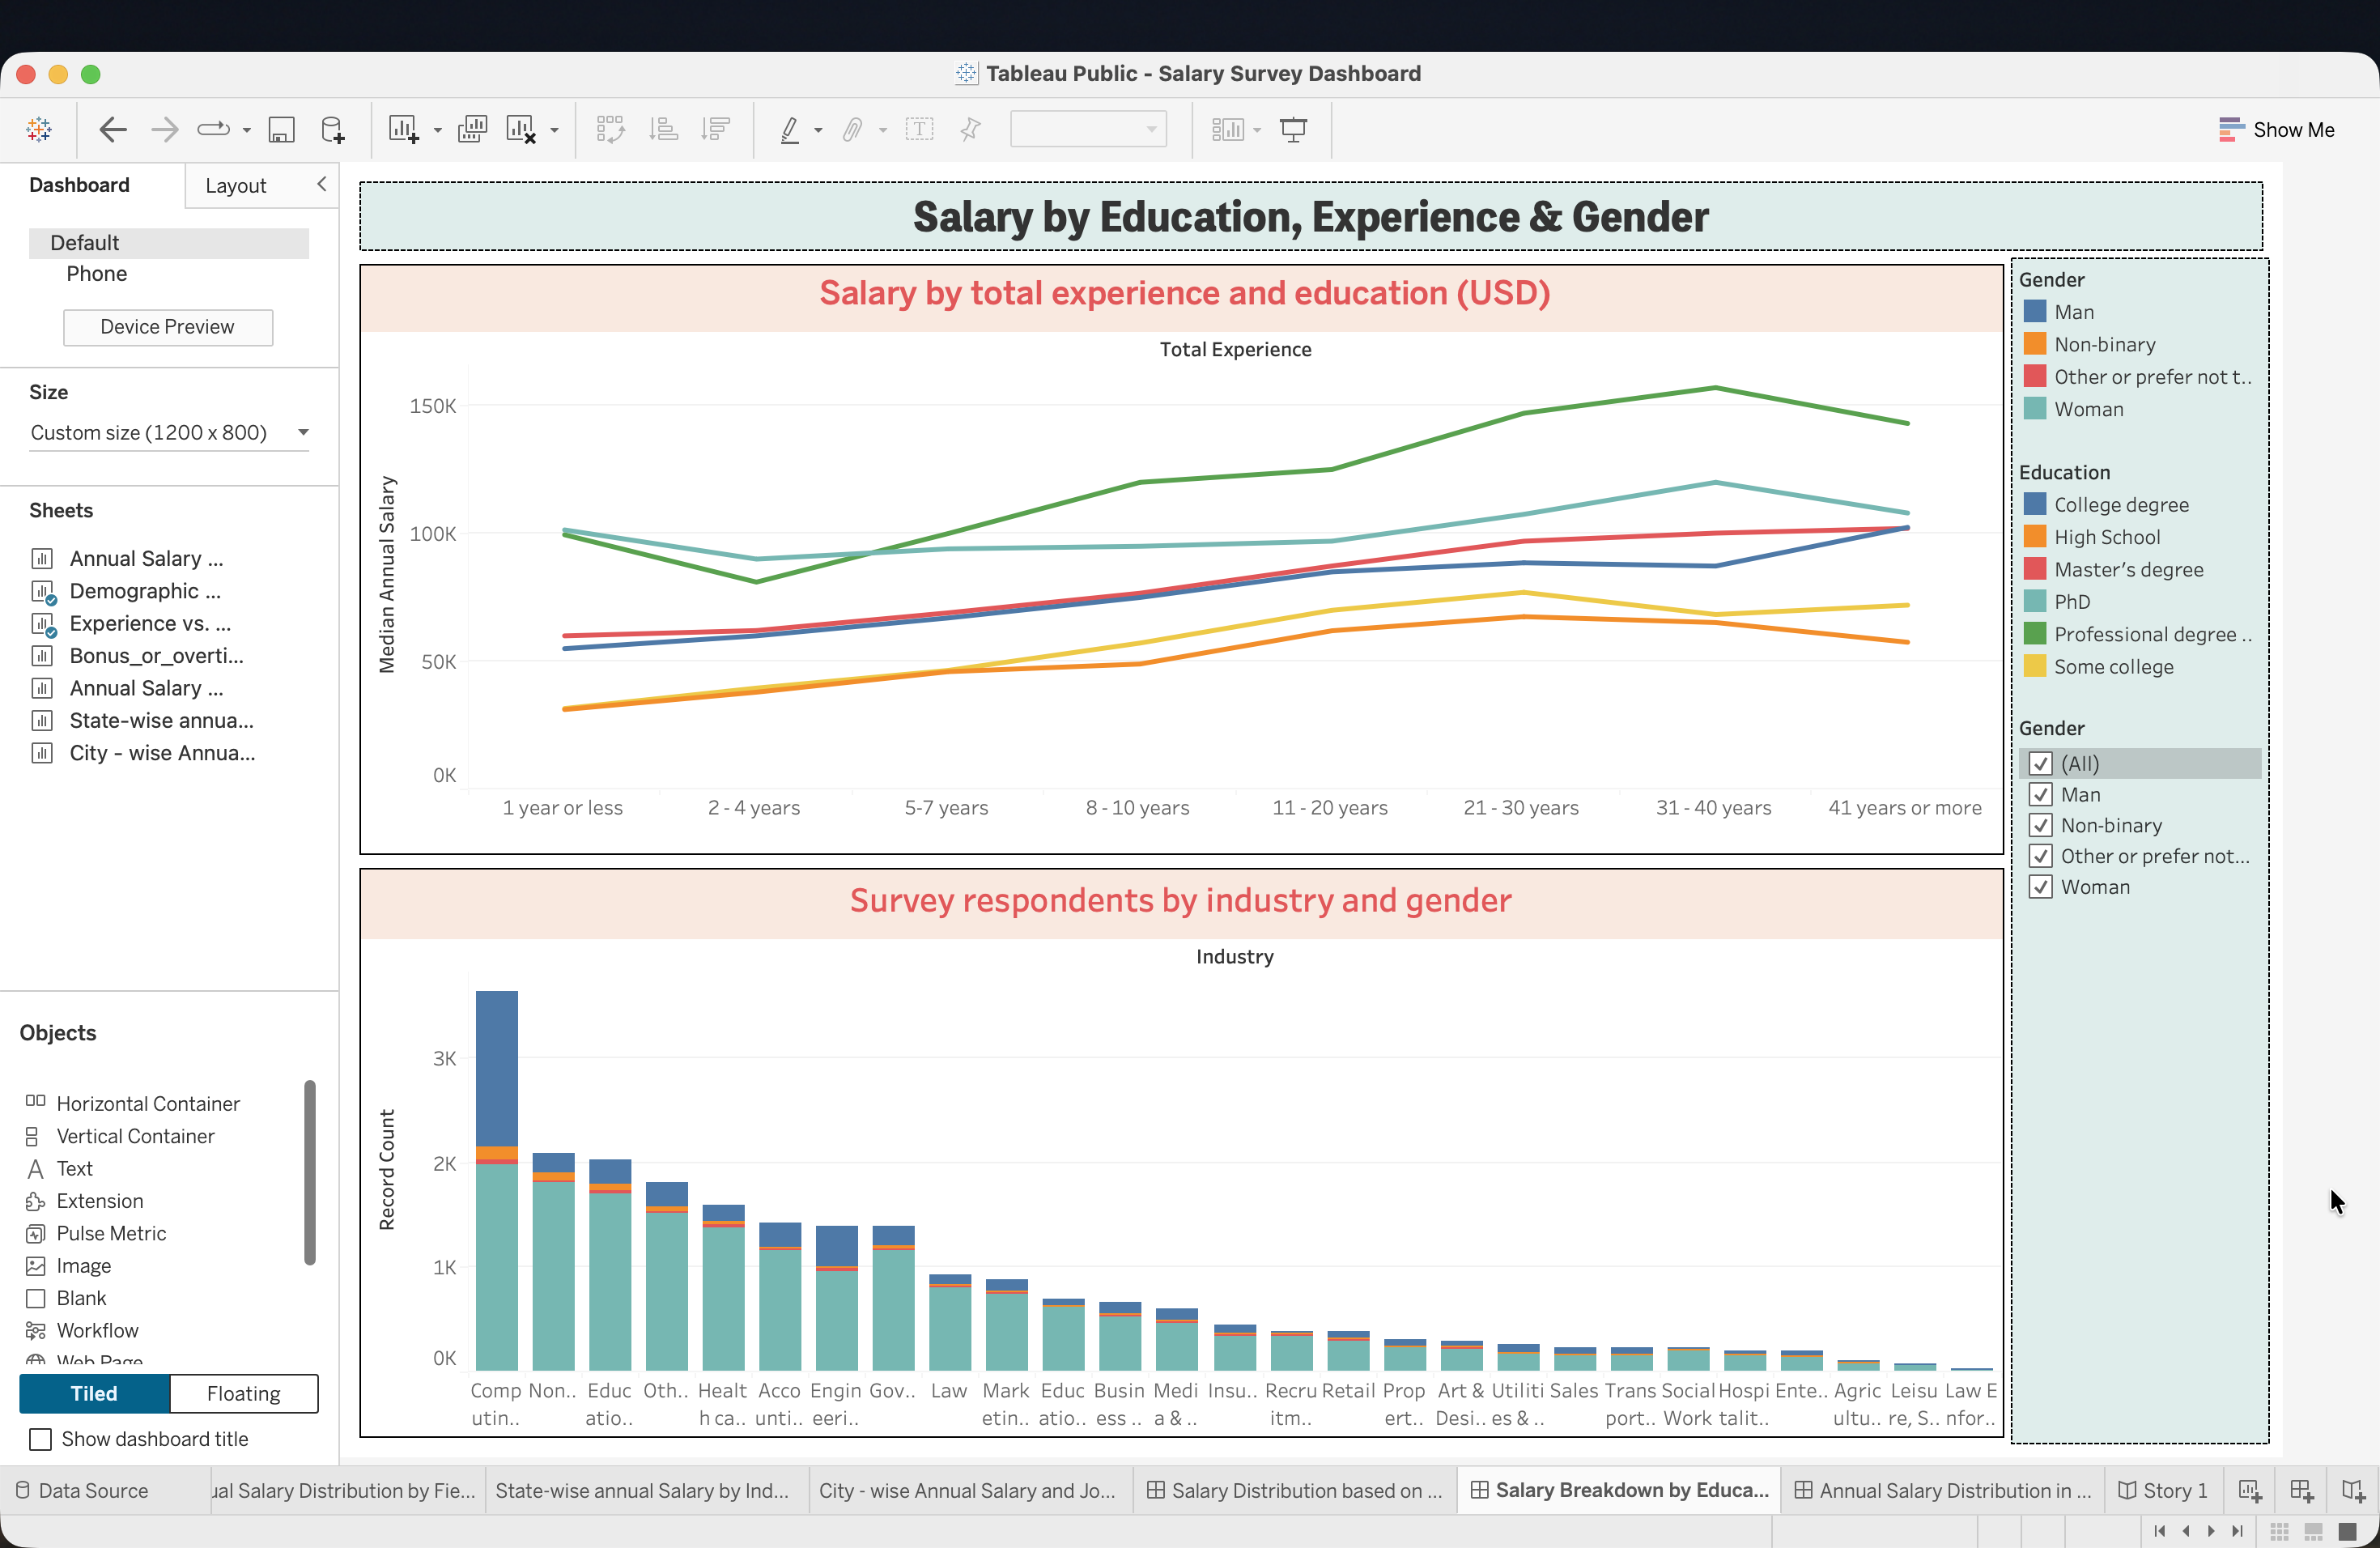

Layout of this report page (visuals, bound fields, positions):
{"tool":"tableau","page":{"name":"Salary Breakdown by Education, Experience & Gender","canvas":[1200,800],"ordinal":1},"visuals":[{"type":"title","box":[8,8,1184,46]},{"type":"worksheet","title":"Experience vs. Salary by Education Level","mark":"Line","rows":["ANNUAL_SALARY"],"cols":["TOTAL_EXPERIENCE"],"box":[8,54,1024,375.1]},{"type":"legend","title":"Demographic Breakdown (Gender) in Industries","param":"[federated.17ybfz006q8ie418u3koh10mw5vd].[none:GENDER:nk]","box":[1033,55,158,119]},{"type":"legend","title":"Experience vs. Salary by Education Level","param":"[federated.17ybfz006q8ie418u3koh10mw5vd].[none:EDUCATION:nk]","box":[1033,174,158,158]},{"type":"filter","title":"Experience vs. Salary by Education Level","param":"[federated.17ybfz006q8ie418u3koh10mw5vd].[none:GENDER:nk]","box":[1033,332,158,127]},{"type":"worksheet","title":"Demographic Breakdown (Gender) in Industries","mark":"Automatic","rows":["Calculation_3529977695810256897"],"cols":["INDUSTRY"],"box":[8,429.1,1024,362.9]}]}

Visuals, with their boxes on the page's 1200x800 design canvas (x1, y1, x2, y2). These are canvas units, not pixel positions in the 2380x1548 screenshot, which may show the page scaled, cropped or inside an application window:
title: [8,8,1192,54]
"Experience vs. Salary by Education Level" worksheet (Line marks): [8,54,1032,429]
"Demographic Breakdown (Gender) in Industries" legend: [1033,55,1191,174]
"Experience vs. Salary by Education Level" legend: [1033,174,1191,332]
"Experience vs. Salary by Education Level" filter: [1033,332,1191,459]
"Demographic Breakdown (Gender) in Industries" worksheet: [8,429,1032,792]
